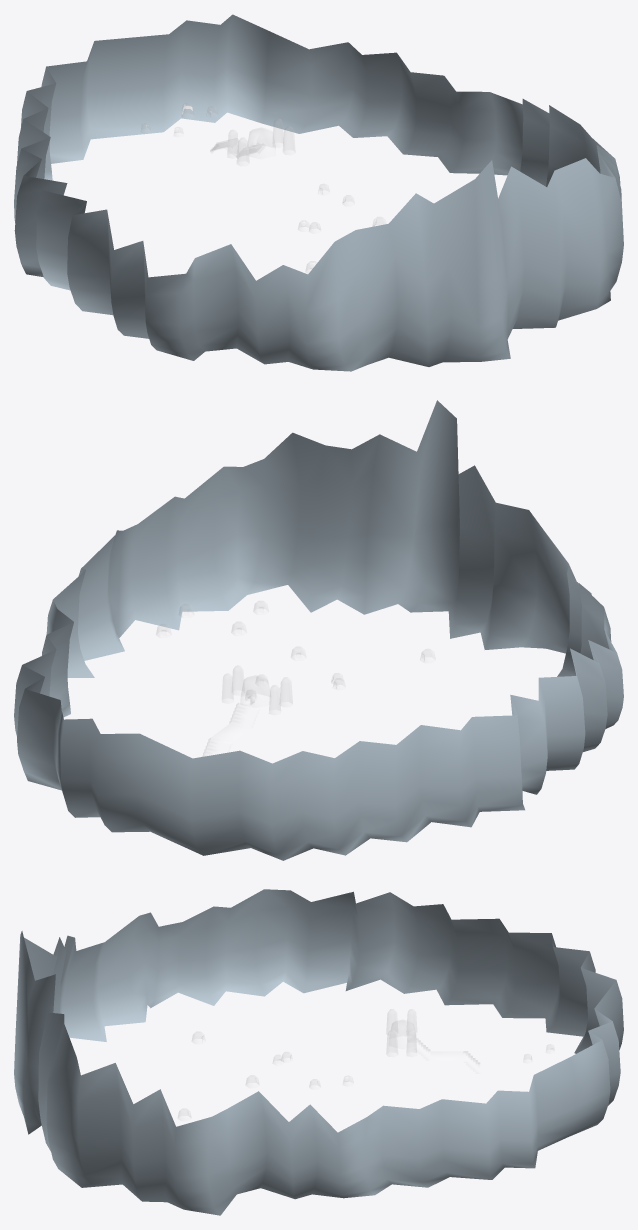
The model's file is ko-koro.fbx.
3 views of the same model, one above another, from view 1: azimuth 30°, elevation 25°; view 2: azimuth 150°, elevation 25°; view 3: azimuth 270°, elevation 25° (orthographic). The views are drawn at different scales.
Visible parts, largest first — view 1: Plane_001, Circle_003; view 2: Plane_001, Circle_003; view 3: Plane_001, Circle_003.
Part boxes in pixels (bbox=[...]): Plane_001: bbox=[14, 14, 623, 371]; Circle_003: bbox=[228, 119, 294, 162]; Plane_001: bbox=[14, 400, 623, 860]; Circle_003: bbox=[222, 666, 292, 710]; Plane_001: bbox=[14, 889, 623, 1215]; Circle_003: bbox=[386, 1009, 416, 1053].
Bounding box in the file's own units: 223 × 89.73 × 253.
